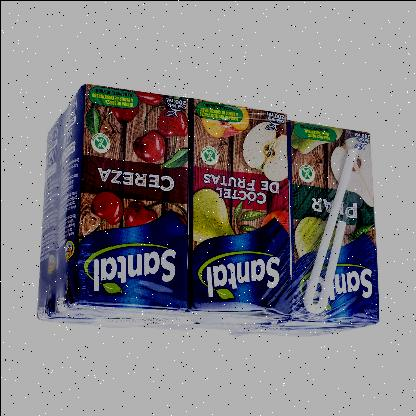Others: (53, 71, 189, 315), (190, 96, 286, 318), (288, 117, 380, 329)
